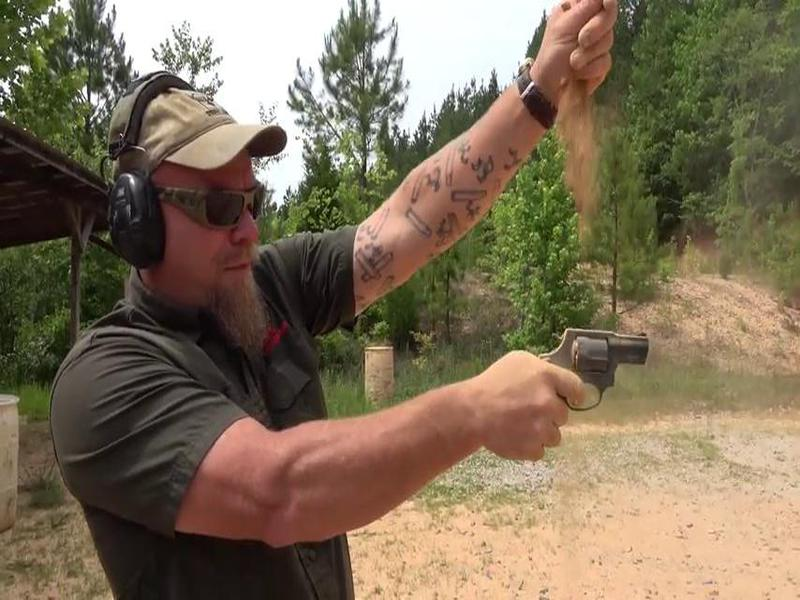Revolver: (532, 319, 664, 414)
